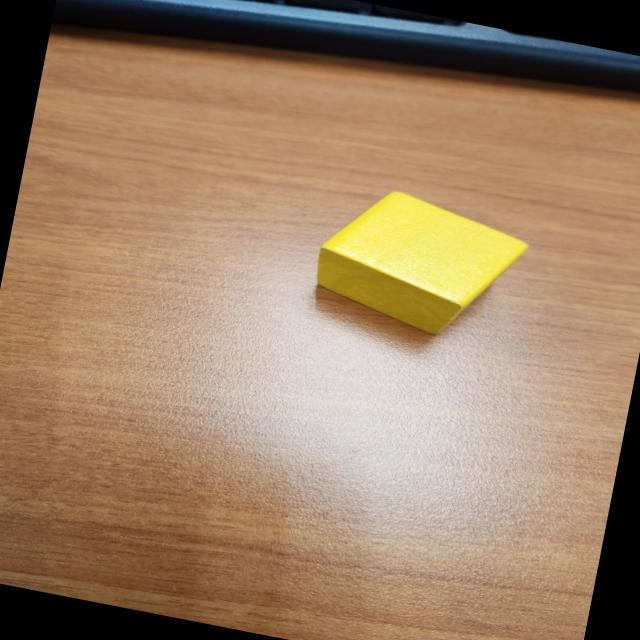yellow: (301, 177, 537, 356)
